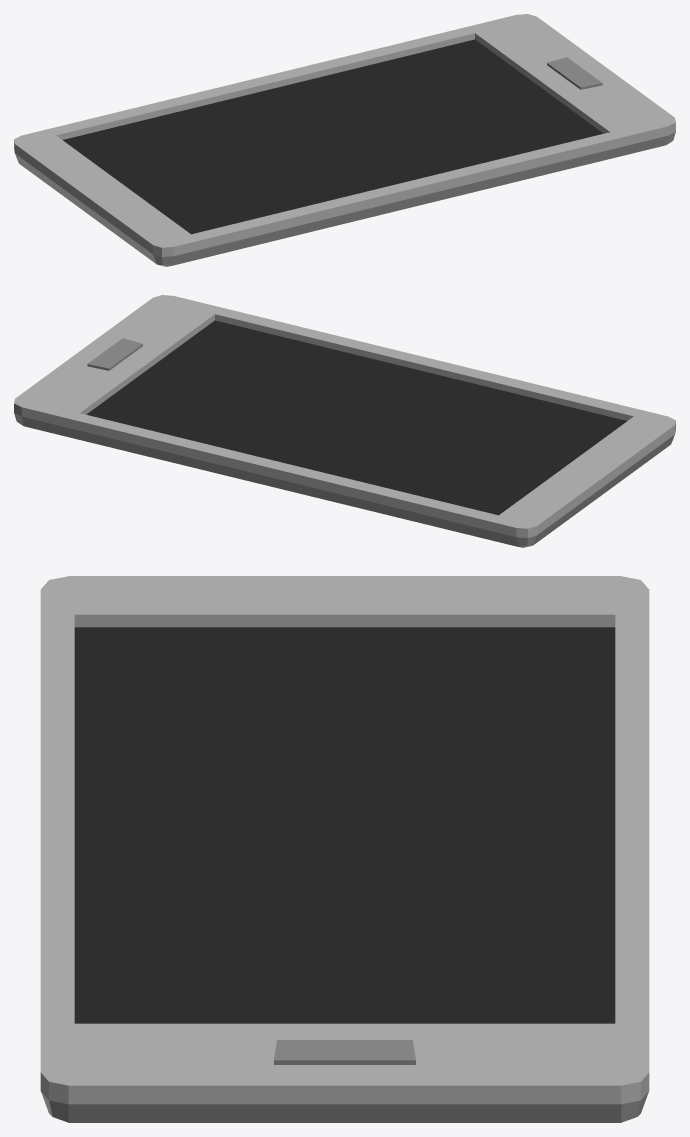
File: telefon.fbx
3 views of the same model, one above another, from view 1: azimuth 30°, elevation 25°; view 2: azimuth 150°, elevation 25°; view 3: azimuth 270°, elevation 25° (orthographic). The views are drawn at different scales.
Visible parts, largest first — view 1: telefon; view 2: telefon; view 3: telefon.
Part boxes in pixels (x1=…): telefon: x1=14, y1=14, x2=675, y2=266; telefon: x1=14, y1=295, x2=675, y2=547; telefon: x1=40, y1=576, x2=649, y2=1122.
Bounding box in the file's own units: 50.79 × 2.56 × 25.63.
